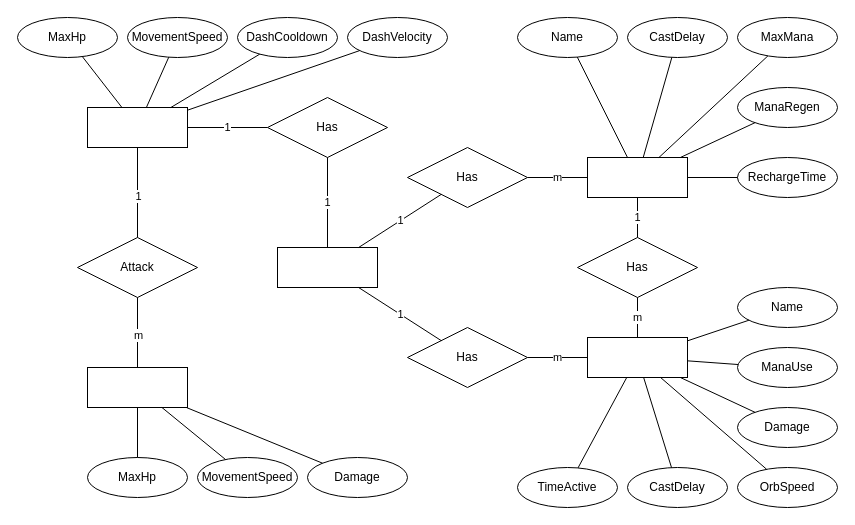
Some shapes in this 855 by 525 pixel diagram are drawn without their labels. The shapes that lost their labels are listed below. From the top down, each one's box as (x1, y1, x2, y2) in pixels, then its label:
(86, 106, 188, 148): Player
(586, 156, 688, 198): Staff
(276, 246, 378, 288): Inventory
(586, 336, 688, 378): Orb
(86, 366, 188, 408): Enemy
